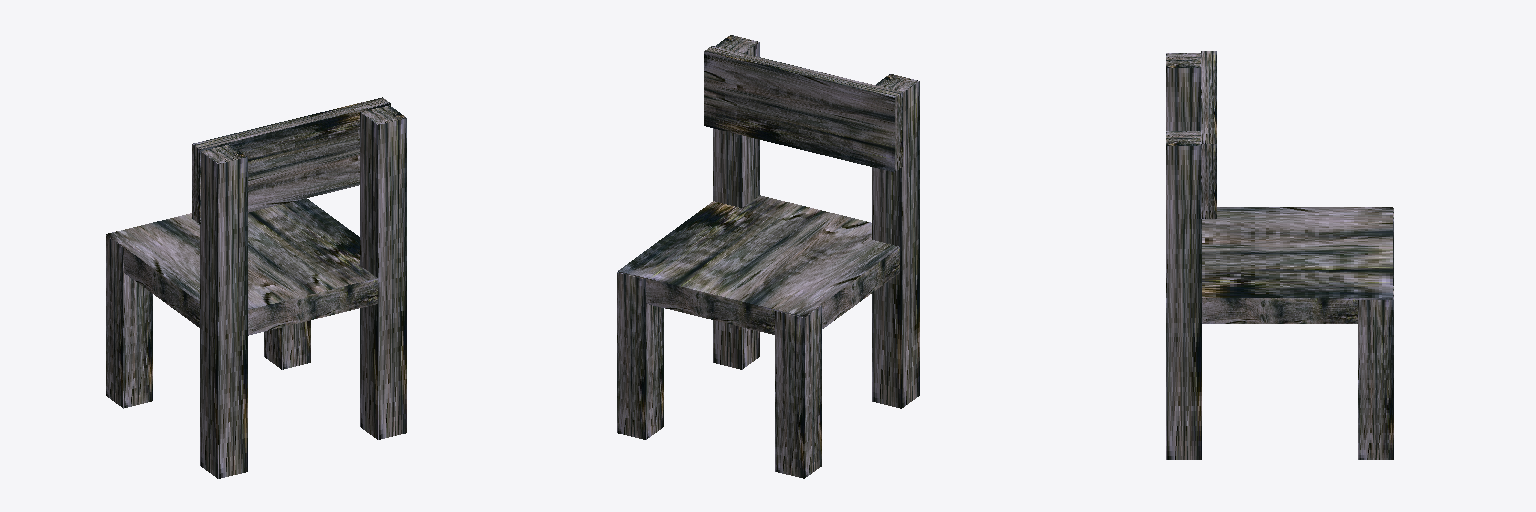
3 renders of one model, left to right at view 1: azimuth 30°, elevation 25°; view 2: azimuth 150°, elevation 25°; view 3: azimuth 270°, elevation 25°, orthographic.
Visible parts, largest first — view 1: Box522, Box523, Box524, Box533, Box532, Box531; view 2: Box522, Box533, Box523, Box532, Box531, Box524; view 3: Box522, Box524, Box531, Box523, Box533.
Boxes of the visible parts, x1=… form: Box522: x1=106, y1=198, x2=377, y2=335; Box523: x1=200, y1=144, x2=247, y2=478; Box524: x1=360, y1=105, x2=406, y2=439; Box533: x1=192, y1=97, x2=390, y2=223; Box532: x1=106, y1=235, x2=152, y2=408; Box531: x1=264, y1=320, x2=310, y2=369; Box522: x1=618, y1=195, x2=899, y2=334; Box533: x1=704, y1=46, x2=902, y2=172; Box523: x1=872, y1=74, x2=919, y2=408; Box532: x1=775, y1=306, x2=821, y2=478; Box531: x1=617, y1=272, x2=663, y2=439; Box524: x1=713, y1=35, x2=759, y2=369; Box522: x1=1202, y1=207, x2=1392, y2=323; Box524: x1=1166, y1=131, x2=1201, y2=459; Box531: x1=1358, y1=286, x2=1393, y2=459; Box523: x1=1166, y1=53, x2=1200, y2=130; Box533: x1=1201, y1=51, x2=1216, y2=218.
Bounding box in the file's own units: 3.8 × 6.04 × 3.94.
1 materials, 1 textured.